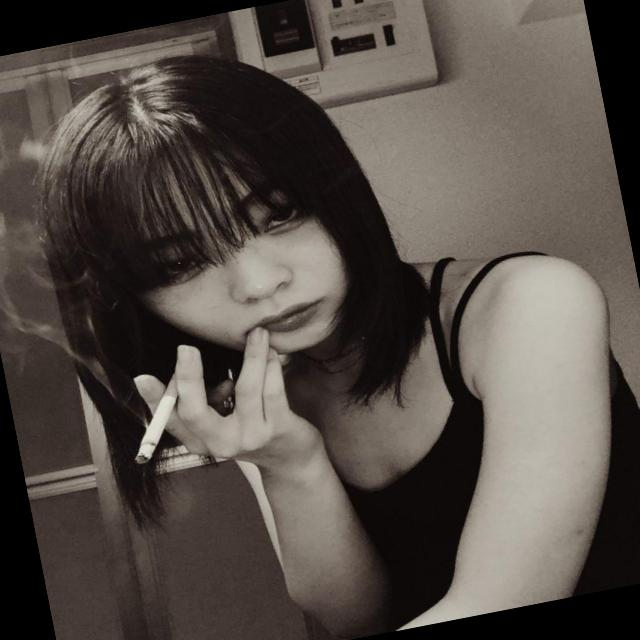smoke: (80, 356, 224, 505)
